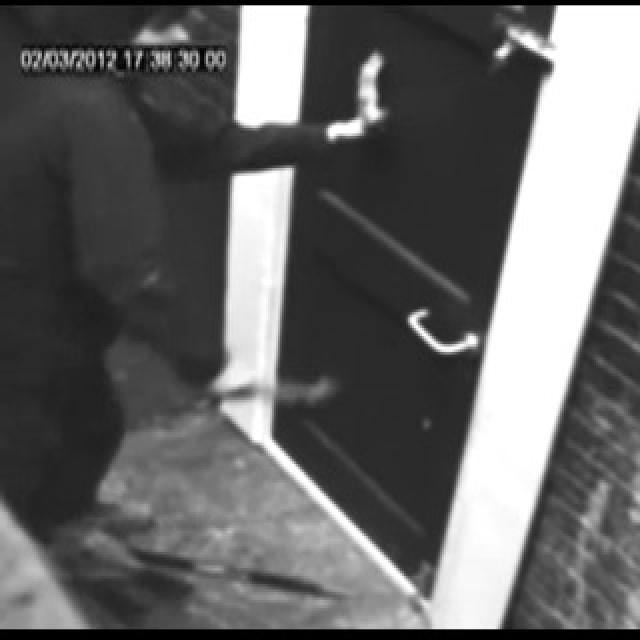thief: (0, 0, 212, 96)
